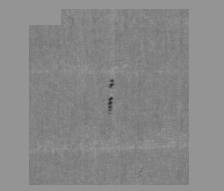oxl: (35, 10, 189, 181)
